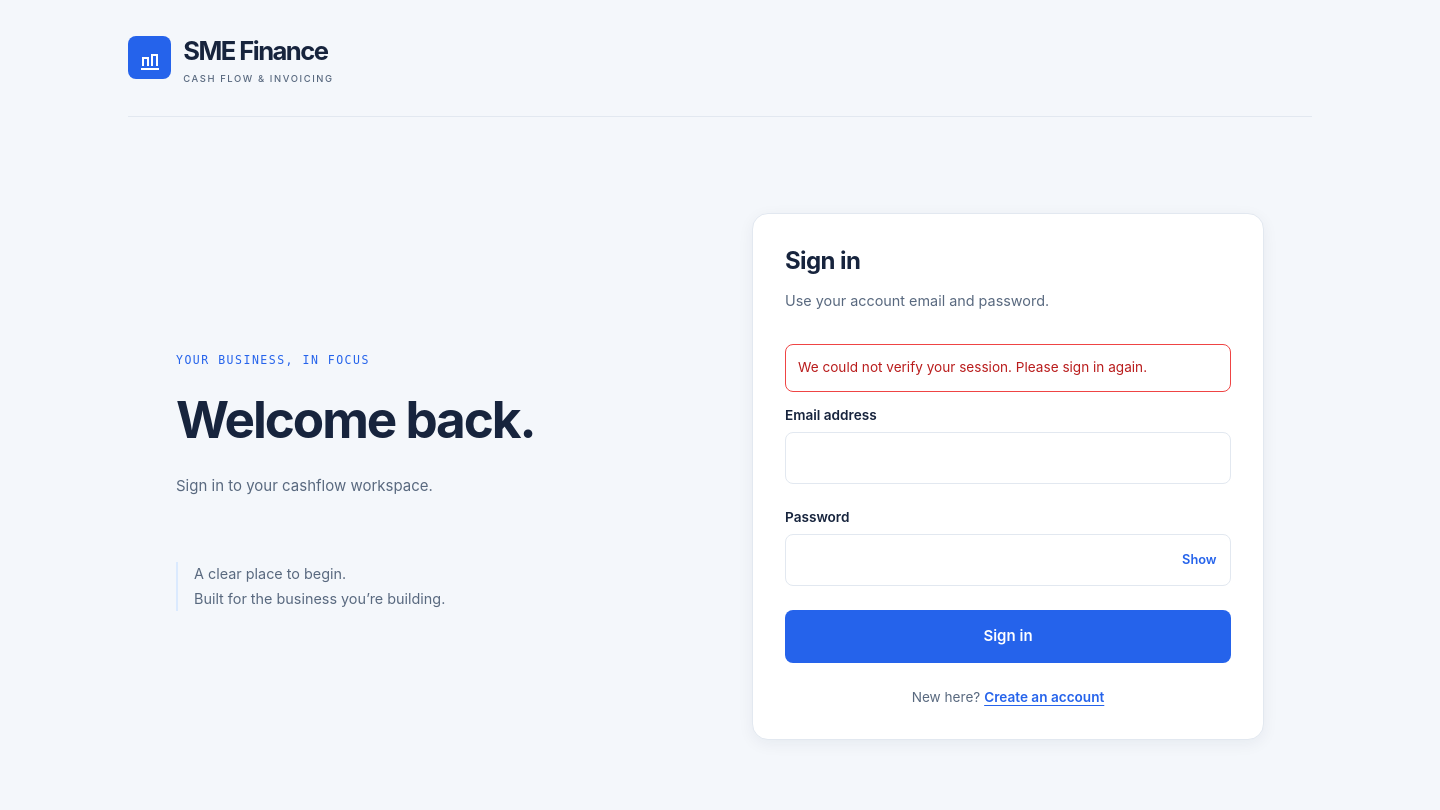
it: validates login fields without issuing a login request
Expected: the field labelled "Email address" is shown, [785,432,1231,484]
Click the button "Sign in" at (1008, 636), box [785,610,1231,662]
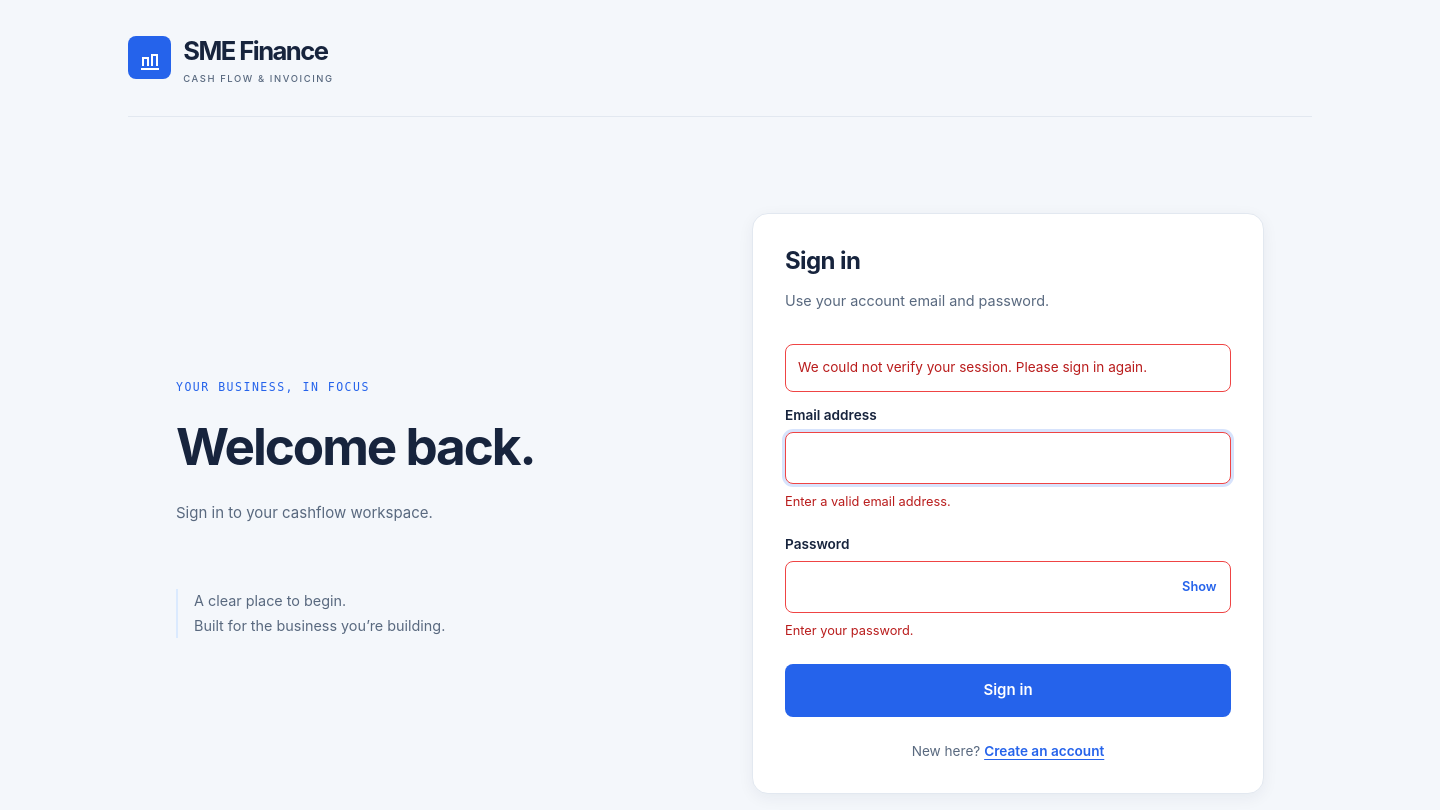
Expected: the text "Enter a valid email address." is shown, [785,494,951,509]
Expected: the text "Enter your password." is shown, [785,623,914,638]
